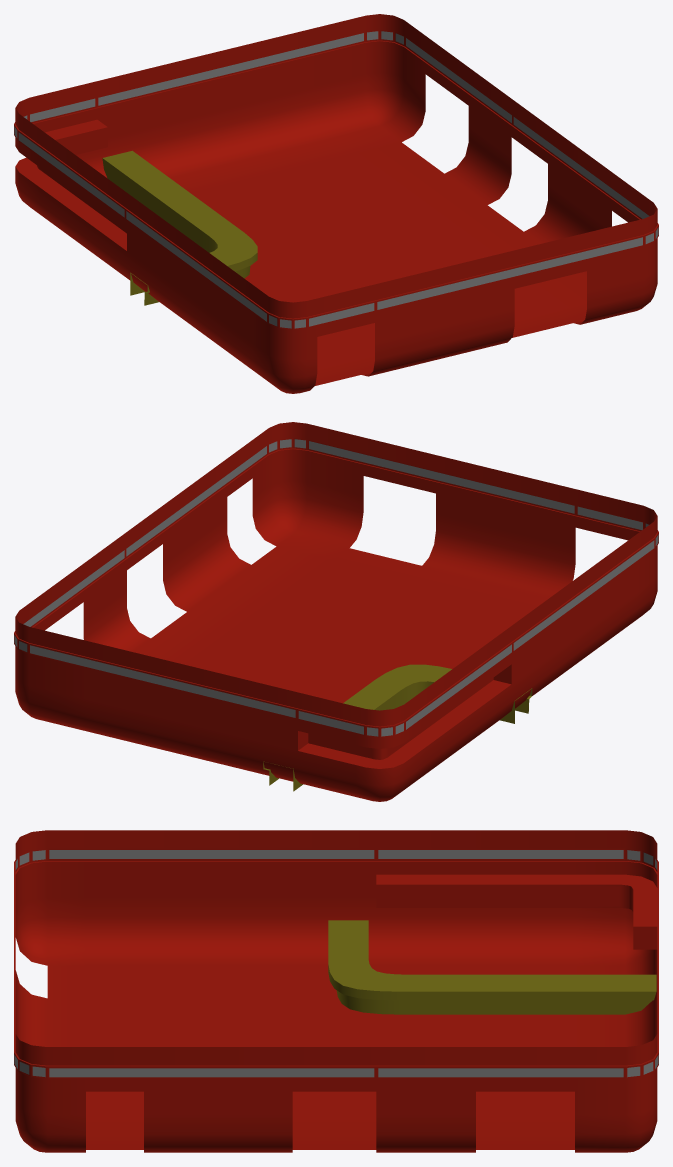
The model's file is HUB room 4.fbx.
3 renders of one model, top to bottom at view 1: azimuth 30°, elevation 25°; view 2: azimuth 150°, elevation 25°; view 3: azimuth 270°, elevation 25°, orthographic. The views are drawn at different scales.
Visible parts, largest first — view 1: HUB; view 2: HUB; view 3: HUB.
Boxes of the visible parts, bbox=[...] form: HUB: bbox=[14, 14, 658, 393]; HUB: bbox=[14, 422, 658, 801]; HUB: bbox=[14, 830, 658, 1152].
Size of the model in its own units: 634 by 791 by 157.
